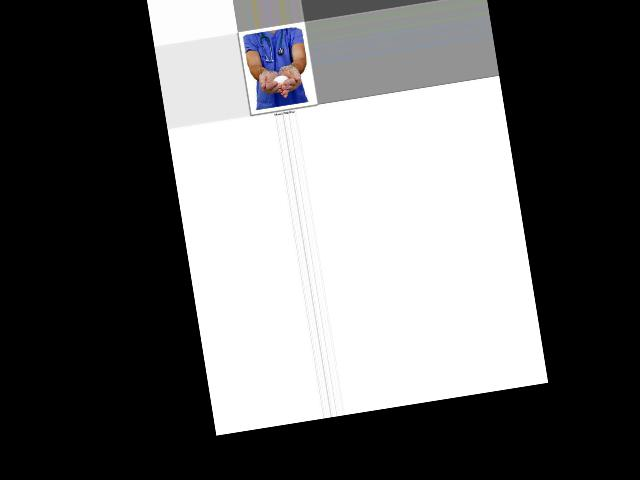egg: (272, 74, 288, 86)
